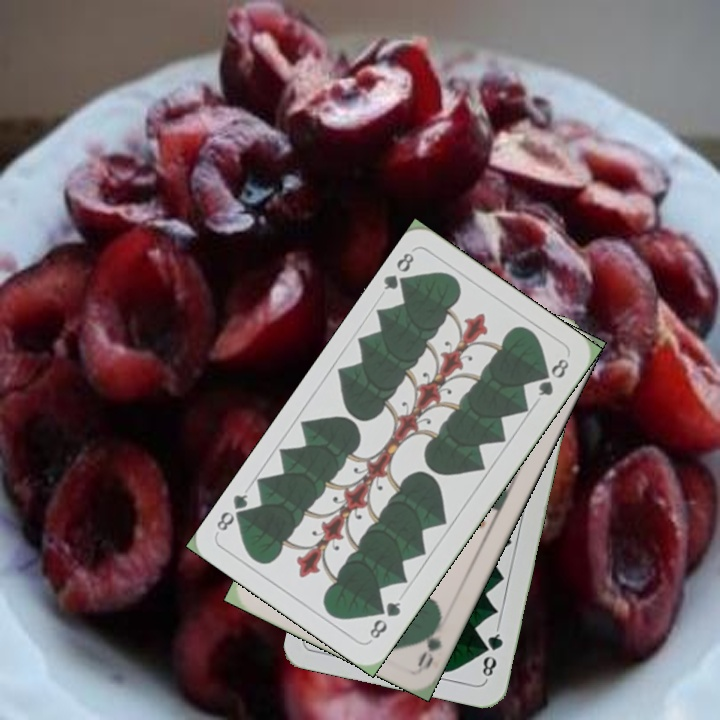G8: (379, 248, 417, 295), (365, 597, 404, 642), (478, 624, 506, 683)
GO: (413, 613, 445, 671)
